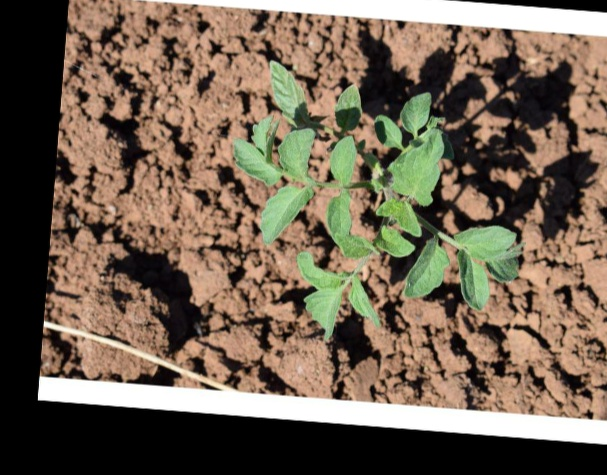tomato: (226, 67, 525, 344)
